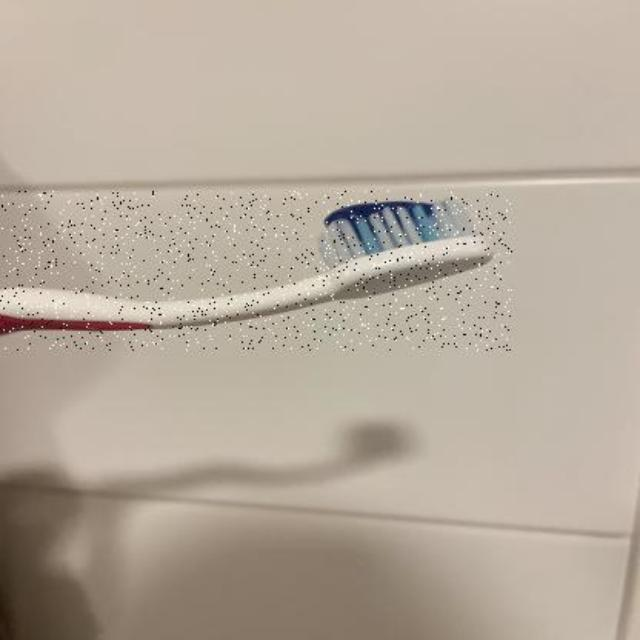toothbrush: (0, 191, 512, 351)
